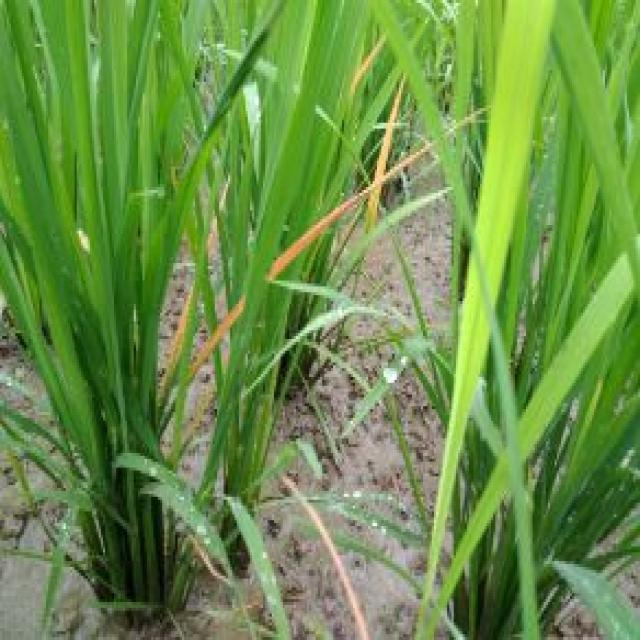Tungro: (270, 138, 433, 276), (285, 473, 374, 640), (160, 240, 218, 406), (371, 78, 407, 231), (347, 32, 392, 102), (212, 174, 231, 266)
